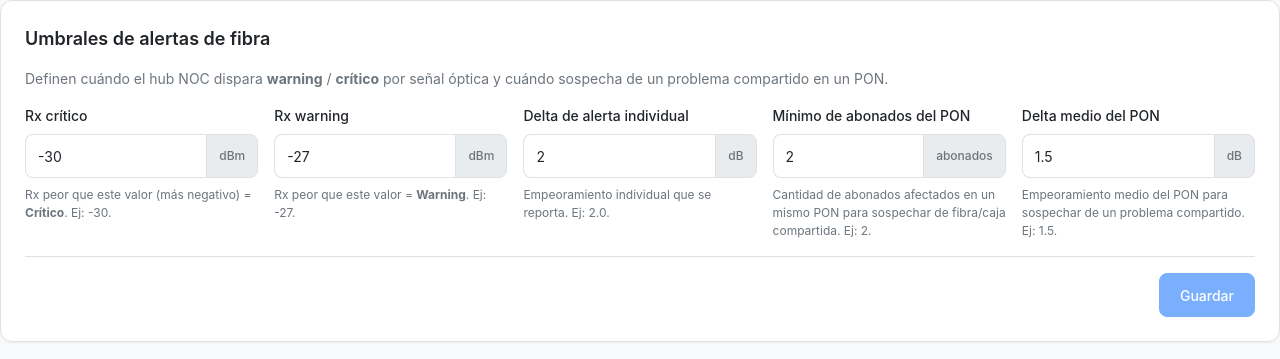
NocAlertThresholdsEditor › editing a field enables the save button
Replace the text in the number field labelled "Rx warning" with "-26". click: (365, 156)
box: [274,134,455,178]
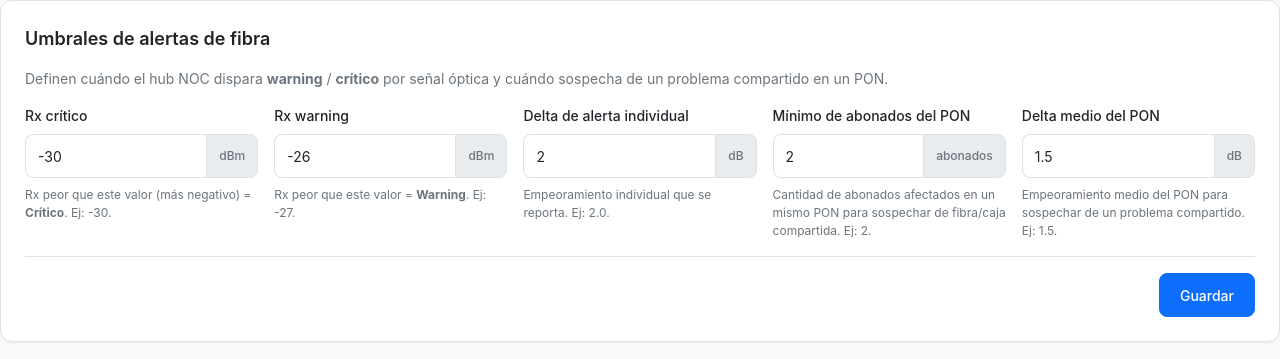
Expected: the button "Guardar" is enabled, [1159,273,1255,317]
